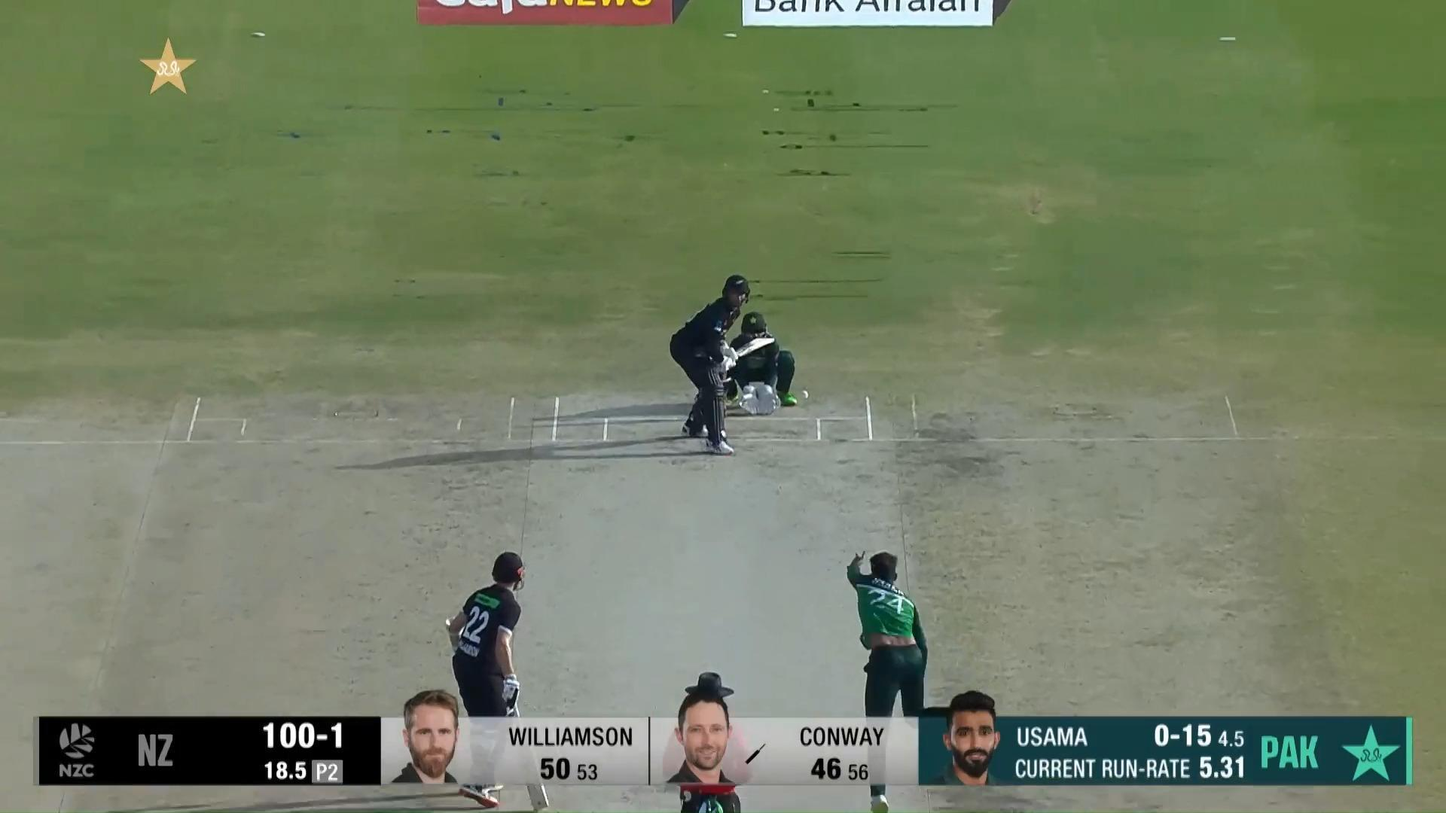BM 1: (670, 274, 776, 457)
BO: (844, 547, 948, 813)
